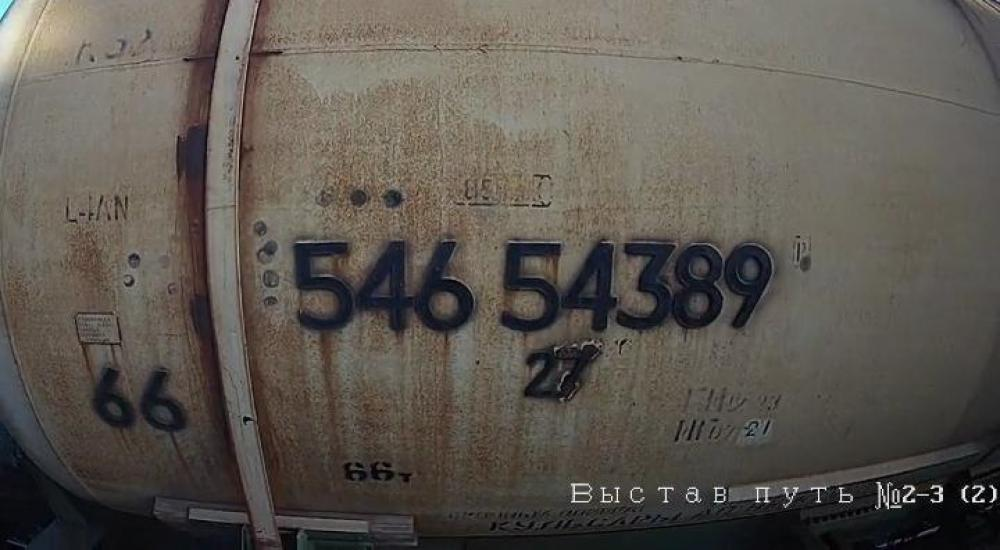Wagon-number: (282, 233, 778, 337)
